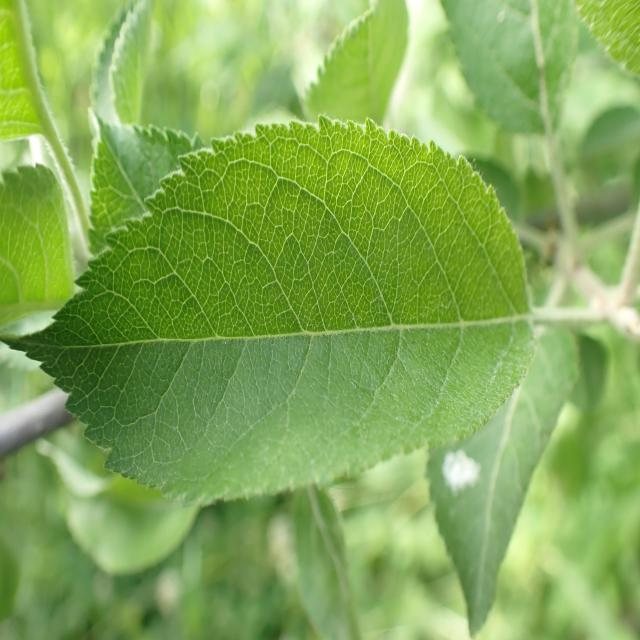healthy: (2, 114, 538, 510), (426, 326, 579, 639), (440, 0, 578, 134), (89, 120, 205, 254), (302, 0, 408, 130), (0, 162, 76, 333), (573, 0, 640, 79)
